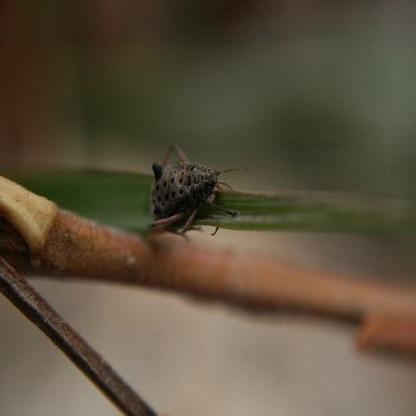aphid: (133, 134, 235, 236)
